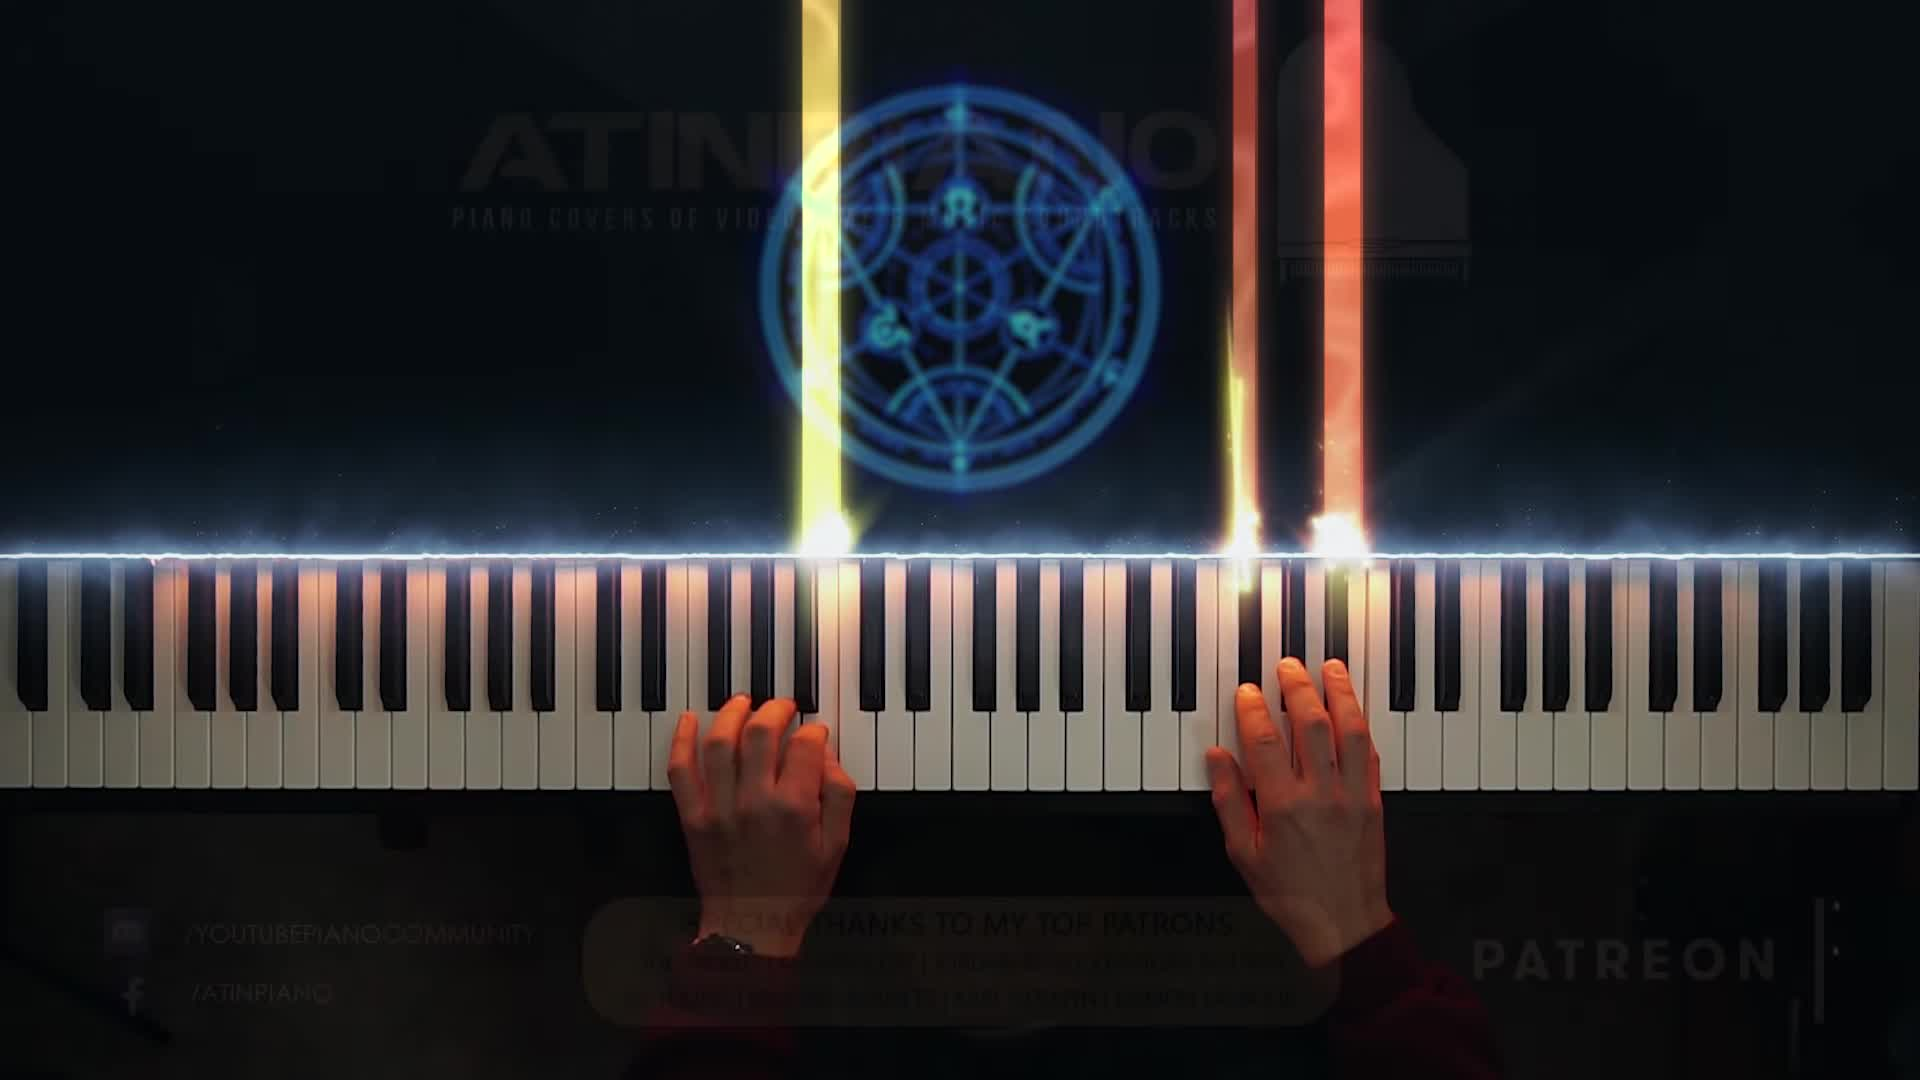left: (659, 690, 862, 961)
right: (1203, 655, 1396, 926)
